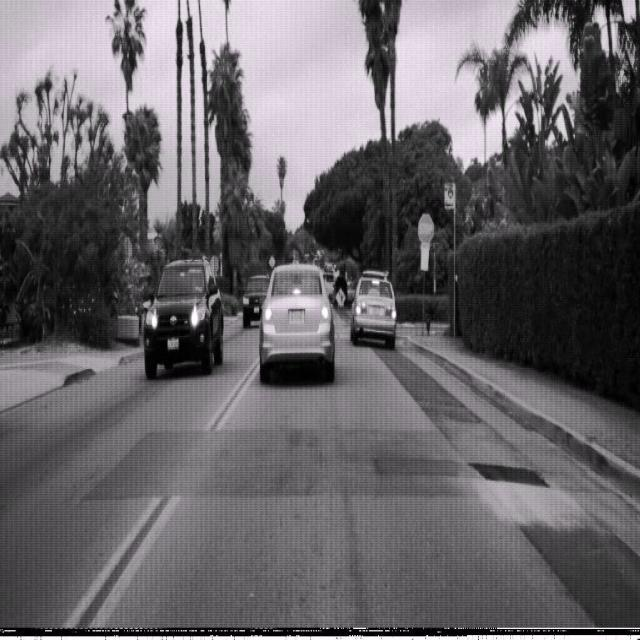stop: (417, 212, 434, 245)
